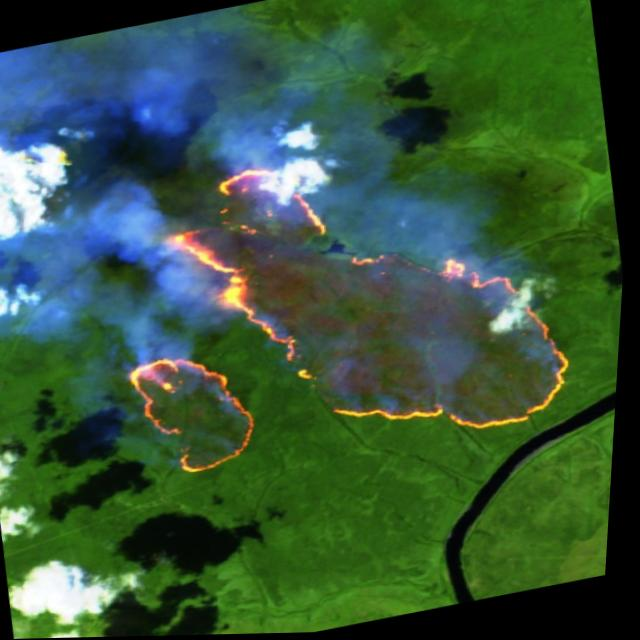fire: (89, 109, 598, 502)
